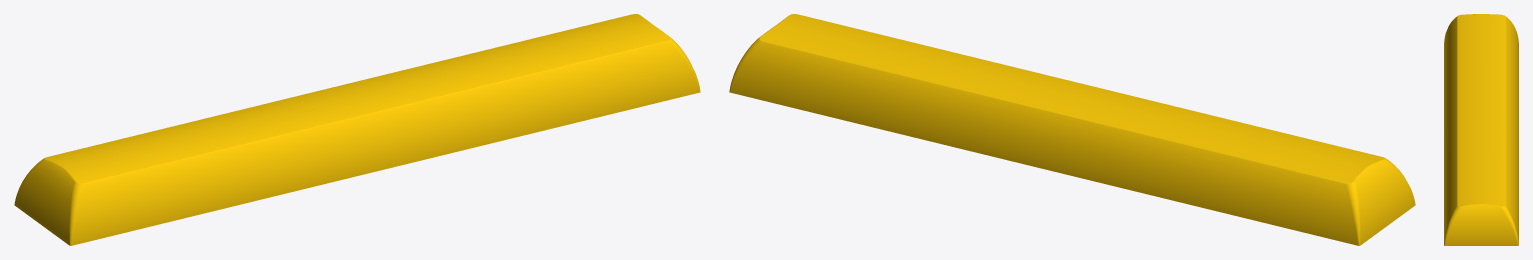
File: 6_25u_convex.glb
The picture shows the model from 3 angles, left to right: view 1: azimuth 30°, elevation 25°; view 2: azimuth 150°, elevation 25°; view 3: azimuth 270°, elevation 25°; orthographic projection. The views are drawn at different scales.
Visible parts, largest first — view 1: Body13; view 2: Body13; view 3: Body13.
Part boxes in pixels (x1=…): Body13: x1=14, y1=14, x2=700, y2=245; Body13: x1=729, y1=14, x2=1415, y2=245; Body13: x1=1444, y1=14, x2=1518, y2=245.
Bounding box in the file's own units: 118 × 9.46 × 18.27.
